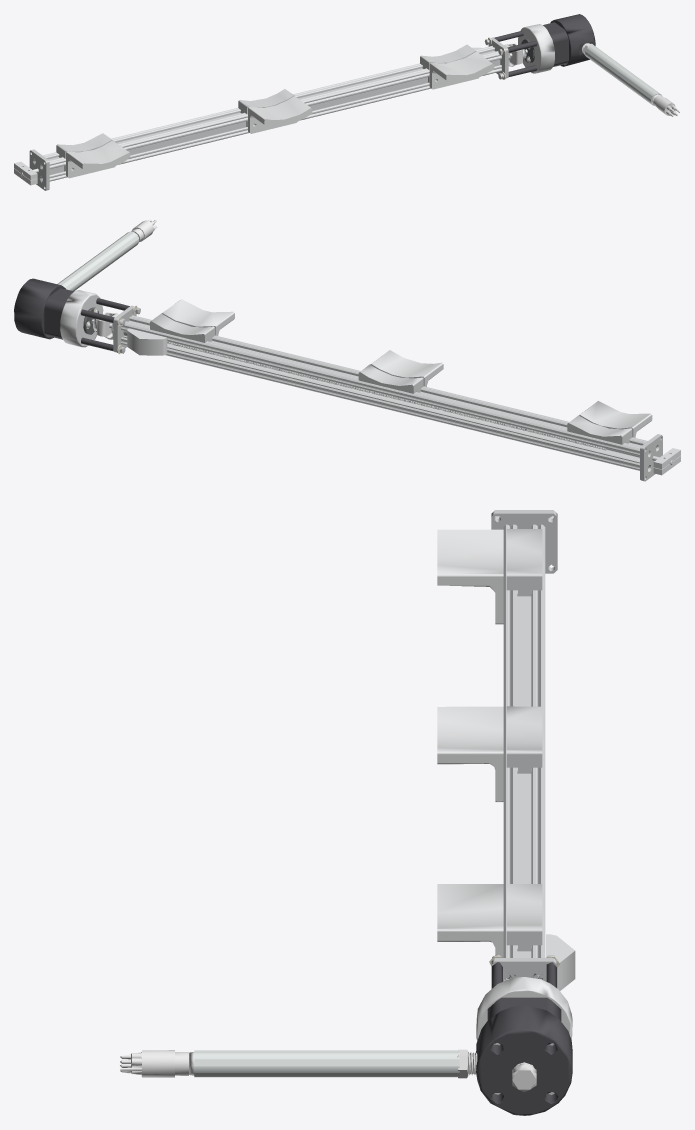
The model's file is lead-screw-messenger.glb.
The picture shows the model from 3 angles, top to bottom: view 1: azimuth 30°, elevation 25°; view 2: azimuth 150°, elevation 25°; view 3: azimuth 270°, elevation 25°; orthographic projection. The views are drawn at different scales.
Parts seen in each view (by area): view 1: GoBilda Extrusion 1118:1; view 2: GoBilda Extrusion 1118:1; view 3: GoBilda Extrusion 1118:1.
Boxes of the visible parts, bbox=[...] form: GoBilda Extrusion 1118:1: bbox=[14, 14, 679, 190]; GoBilda Extrusion 1118:1: bbox=[14, 219, 680, 481]; GoBilda Extrusion 1118:1: bbox=[120, 510, 575, 1115].
Bounding box in the file's own units: 0.7554 × 0.0556 × 0.2617.
Materials: 1 (1 with a texture image).
